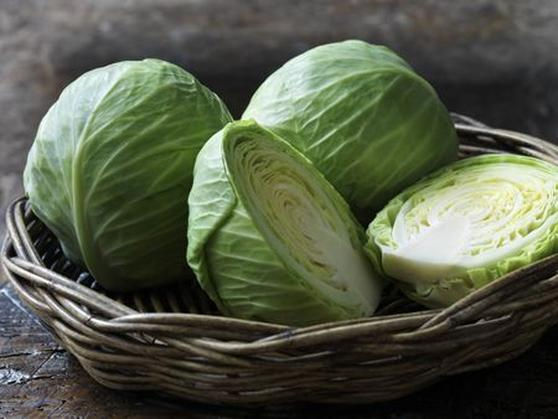cabbage: (24, 59, 237, 287)
